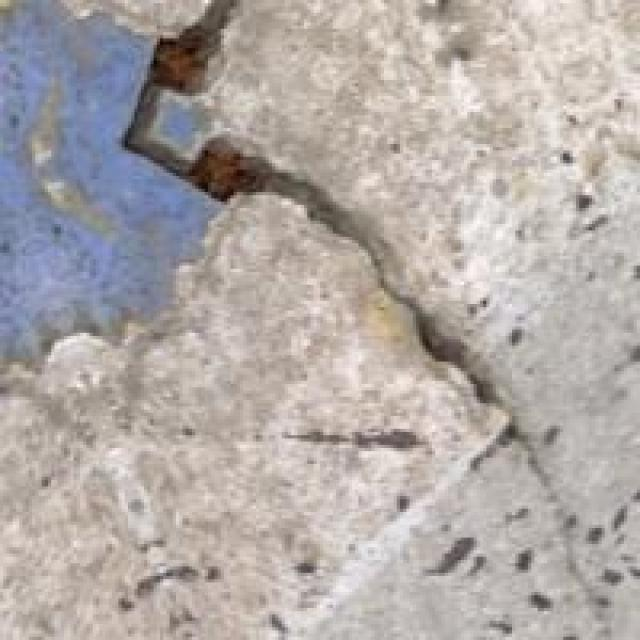Crack: (105, 0, 505, 422)
